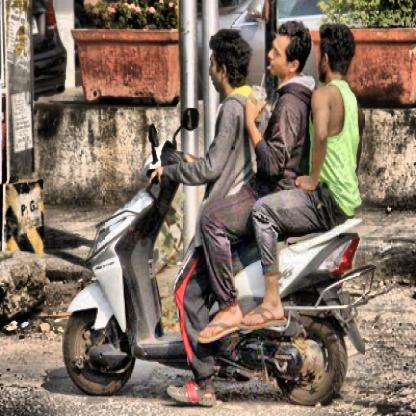not_wear: (208, 34, 244, 102), (267, 21, 302, 81), (317, 21, 351, 82)
